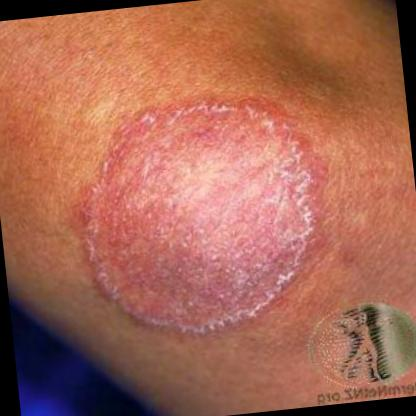Ringworm: (55, 70, 338, 356)
